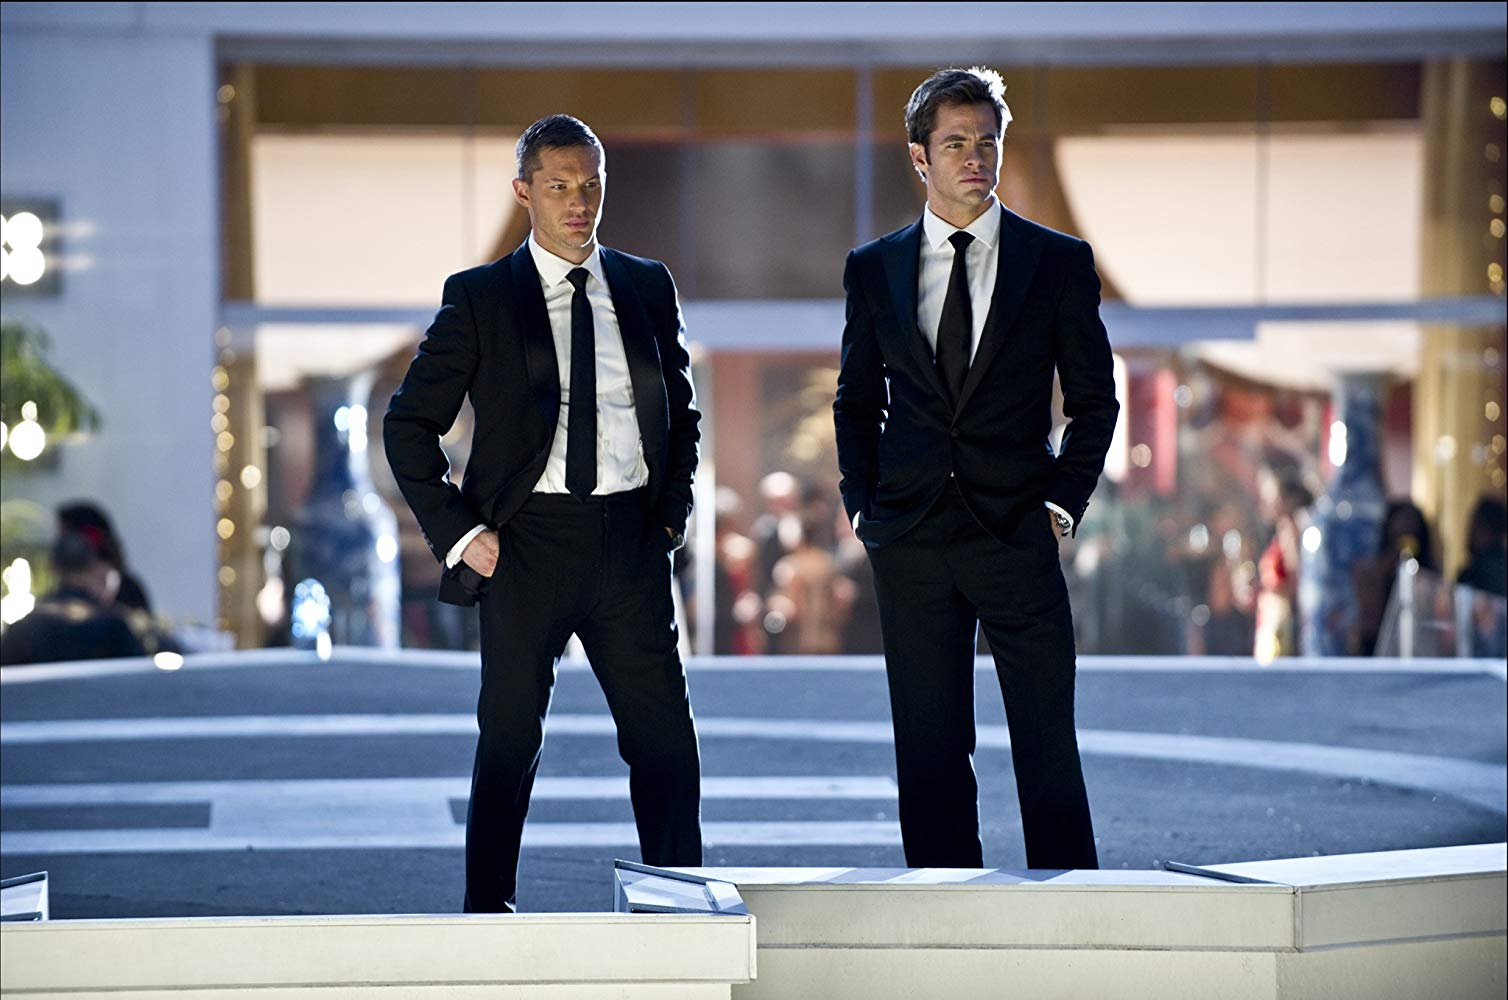Person: (381, 114, 701, 913), (834, 68, 1121, 869)
